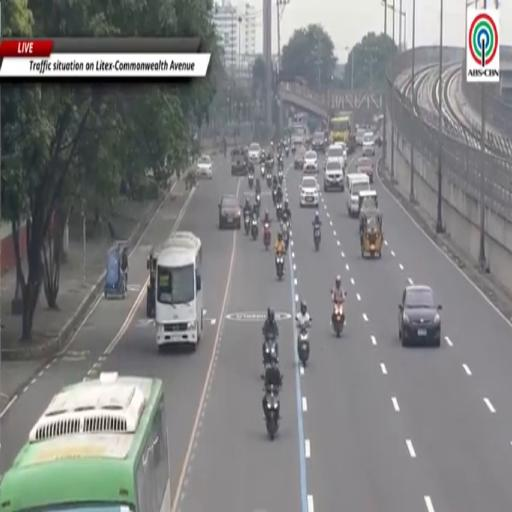bus: (0, 373, 170, 511), (155, 232, 203, 348), (330, 115, 351, 143), (291, 123, 307, 146)
car: (399, 284, 441, 346), (219, 195, 241, 229), (324, 160, 344, 191), (300, 176, 319, 206), (356, 157, 374, 184), (327, 144, 346, 169), (231, 149, 248, 175), (197, 155, 212, 179), (303, 151, 318, 173), (248, 142, 262, 164), (363, 133, 375, 155), (312, 133, 325, 152), (294, 147, 304, 170), (355, 128, 366, 147)
motorcycle: (264, 386, 279, 440), (263, 334, 278, 365), (298, 325, 309, 366), (332, 302, 344, 337), (275, 254, 284, 280), (263, 223, 271, 251), (282, 223, 289, 251), (313, 226, 320, 250), (252, 217, 258, 239), (276, 202, 283, 220), (278, 157, 284, 176), (245, 213, 250, 234), (248, 173, 254, 189), (278, 168, 283, 184), (267, 171, 272, 187), (272, 188, 276, 206), (261, 164, 266, 178), (255, 194, 260, 207), (285, 146, 289, 156), (292, 144, 296, 154)
truck: (330, 111, 353, 146)
